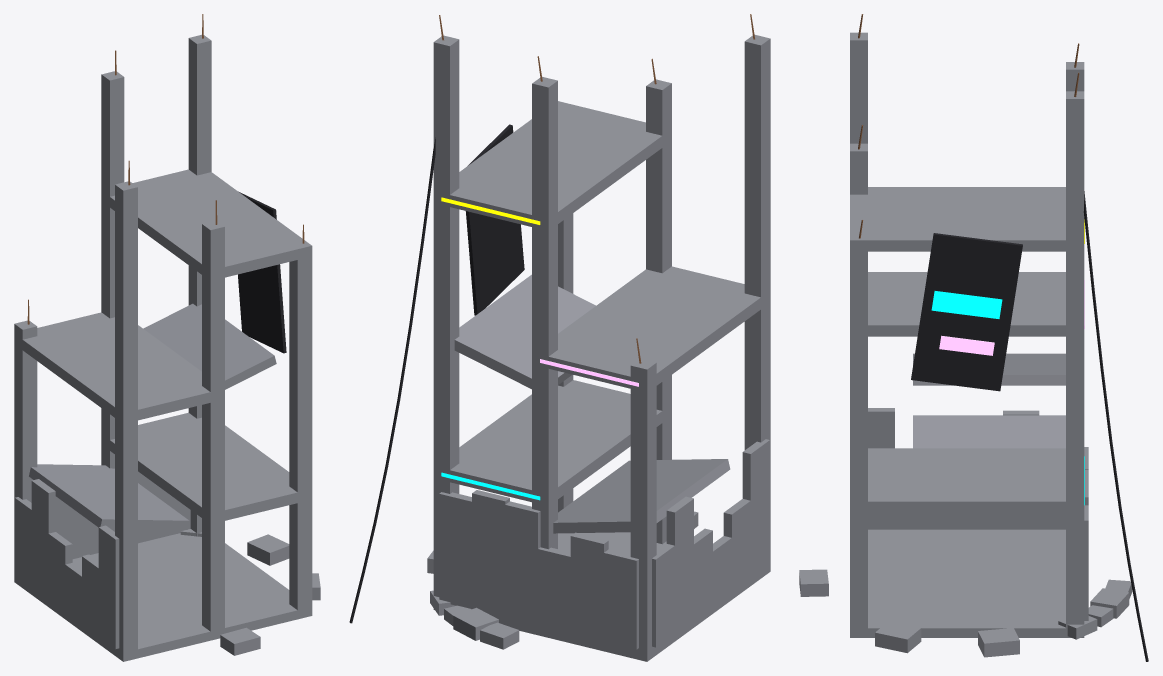
The model's file is Prop_RuinTower.fbx.
The picture shows the model from 3 angles, left to right: view 1: azimuth 30°, elevation 25°; view 2: azimuth 150°, elevation 25°; view 3: azimuth 270°, elevation 25°; orthographic projection. The views are drawn at different scales.
Parts seen in each view (by area): view 1: RuinT_Slab0, RuinT_SlabA3, RuinT_Column0, RuinT_SlabA2, RuinT_SlabA1, RuinT_Column5, RuinT_Column1, RuinT_Column4, RuinT_SlabB1, RuinT_SlabB2, RuinT_Column2, RuinT_Column3 (+12 smaller); view 2: RuinT_SlabA2, RuinT_SlabA3, RuinT_Column2, RuinT_SlabA1, RuinT_Column4, RuinT_Column0, RuinT_Column3, RuinT_SlabB2, RuinT_SlabB1, RuinT_Column5, RuinT_BigSign, RuinT_WallN0_4 (+16 smaller); view 3: RuinT_Slab0, RuinT_SlabA1, RuinT_SlabA3, RuinT_BigSign, RuinT_Column2, RuinT_Column1, RuinT_SlabA2, RuinT_SlabB1, RuinT_SlabB2, RuinT_Column0, RuinT_HangingCable, RuinT_WallW0_0 (+14 smaller).
Boxes of the visible parts, <box> form: RuinT_Slab0: <box>22,533,312,660</box>; RuinT_SlabA3: <box>110,169,312,280</box>; RuinT_Column0: <box>115,181,137,661</box>; RuinT_SlabA2: <box>22,312,210,423</box>; RuinT_SlabA1: <box>109,412,312,524</box>; RuinT_Column5: <box>202,221,224,640</box>; RuinT_Column1: <box>289,251,312,619</box>; RuinT_Column4: <box>101,71,124,531</box>; RuinT_SlabB1: <box>29,464,189,529</box>; RuinT_SlabB2: <box>143,303,276,389</box>; RuinT_Column2: <box>188,34,211,536</box>; RuinT_Column3: <box>14,320,37,587</box>; RuinT_SlabA2: <box>532,266,760,391</box>; RuinT_SlabA3: <box>436,101,671,229</box>; RuinT_Column2: <box>433,35,459,609</box>; RuinT_SlabA1: <box>433,380,671,505</box>; RuinT_Column4: <box>532,76,557,637</box>; RuinT_Column0: <box>744,35,770,578</box>; RuinT_Column3: <box>630,359,656,661</box>; RuinT_SlabB2: <box>454,274,595,389</box>; RuinT_SlabB1: <box>553,459,730,533</box>; RuinT_Column5: <box>646,79,671,544</box>; RuinT_BigSign: <box>465,124,524,315</box>; RuinT_WallN0_4: <box>472,490,509,617</box>; RuinT_Slab0: <box>850,529,1065,637</box>; RuinT_SlabA1: <box>868,448,1065,512</box>; RuinT_SlabA3: <box>850,187,1084,251</box>; RuinT_BigSign: <box>911,233,1022,391</box>; RuinT_Column2: <box>1066,91,1084,637</box>; RuinT_Column1: <box>850,246,867,637</box>; RuinT_SlabA2: <box>868,272,1065,336</box>; RuinT_SlabB1: <box>913,415,1065,448</box>; RuinT_SlabB2: <box>913,353,1065,385</box>; RuinT_Column0: <box>850,32,867,143</box>; RuinT_HangingCable: <box>1083,191,1148,661</box>; RuinT_WallW0_0: <box>868,408,894,529</box>.
Size of the model in its own units: 1.63 by 3.46 by 1.94.
